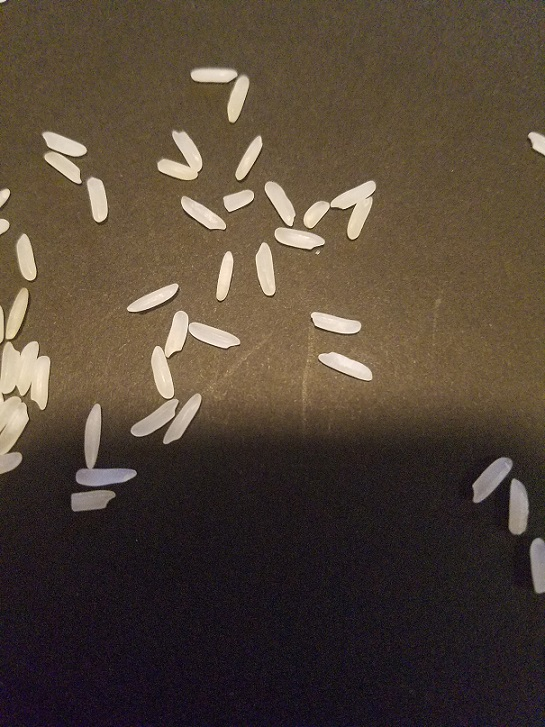egg: (158, 391, 204, 446), (127, 396, 182, 440), (182, 315, 242, 355), (469, 455, 515, 506), (315, 348, 377, 384), (122, 279, 181, 315), (175, 191, 228, 231), (341, 191, 377, 244), (330, 176, 380, 214), (261, 178, 300, 226), (231, 131, 266, 184), (35, 130, 92, 162), (169, 126, 207, 174), (304, 307, 363, 337), (271, 222, 327, 253), (14, 339, 42, 399), (222, 68, 252, 124), (41, 150, 87, 186), (150, 343, 178, 402), (252, 240, 279, 300), (81, 401, 105, 468), (72, 464, 139, 487), (161, 309, 190, 361), (5, 286, 31, 344), (85, 172, 111, 229), (507, 474, 530, 536), (30, 352, 53, 414), (1, 402, 31, 448), (154, 153, 200, 183), (15, 228, 39, 283), (299, 196, 333, 233), (185, 62, 243, 83), (68, 487, 118, 511), (215, 250, 237, 304), (528, 536, 545, 599), (220, 186, 255, 214), (1, 341, 18, 398), (1, 392, 22, 435), (1, 448, 24, 474), (526, 131, 545, 151), (1, 296, 7, 345), (1, 214, 12, 236), (1, 186, 10, 207)
